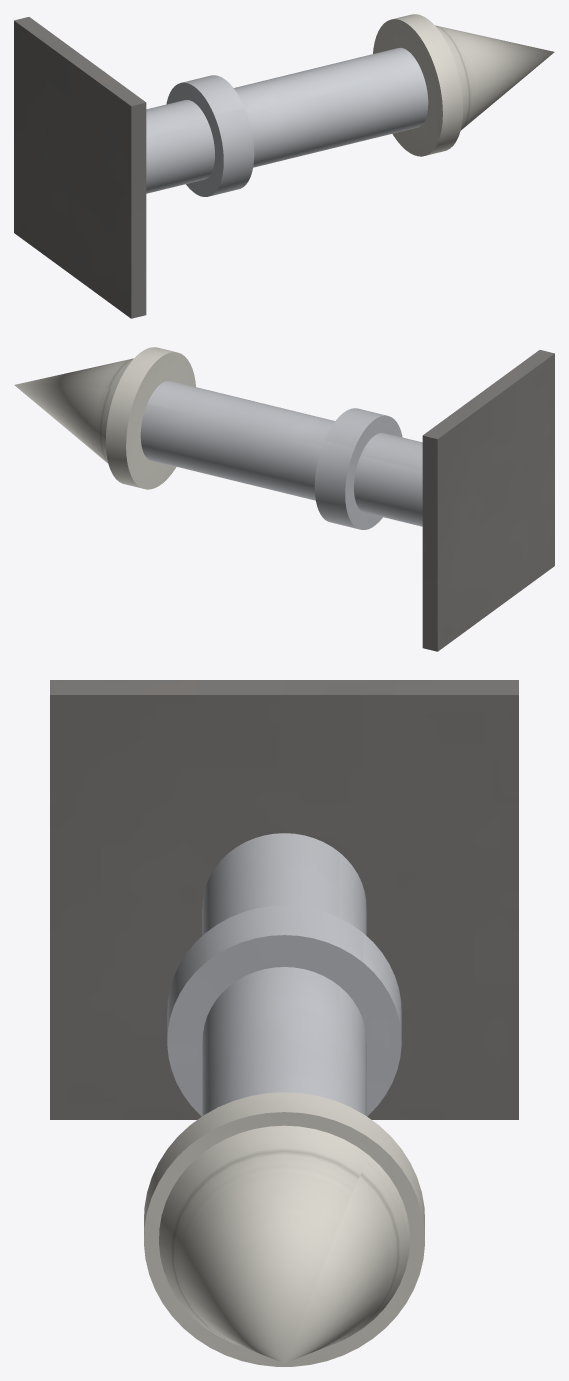
The model's file is power10_omni_antenna.glb.
3 renders of one model, top to bottom at view 1: azimuth 30°, elevation 25°; view 2: azimuth 150°, elevation 25°; view 3: azimuth 270°, elevation 25°, orthographic. The views are drawn at different scales.
Visible parts, largest first — view 1: mount_plate, mast, radome; view 2: mount_plate, mast, radome; view 3: mount_plate, radome, mast.
Boxes of the visible parts, bbox=[...] form: mount_plate: bbox=[14, 17, 146, 318]; mast: bbox=[146, 47, 428, 196]; radome: bbox=[373, 14, 554, 156]; mount_plate: bbox=[422, 350, 554, 651]; mast: bbox=[140, 380, 422, 529]; radome: bbox=[14, 347, 195, 489]; mount_plate: bbox=[50, 680, 518, 1119]; radome: bbox=[144, 1092, 424, 1366]; mast: bbox=[167, 833, 401, 1116].
Bounding box in the file's own units: 0.475 × 0.2 × 0.2.
3 materials, 3 textured.
